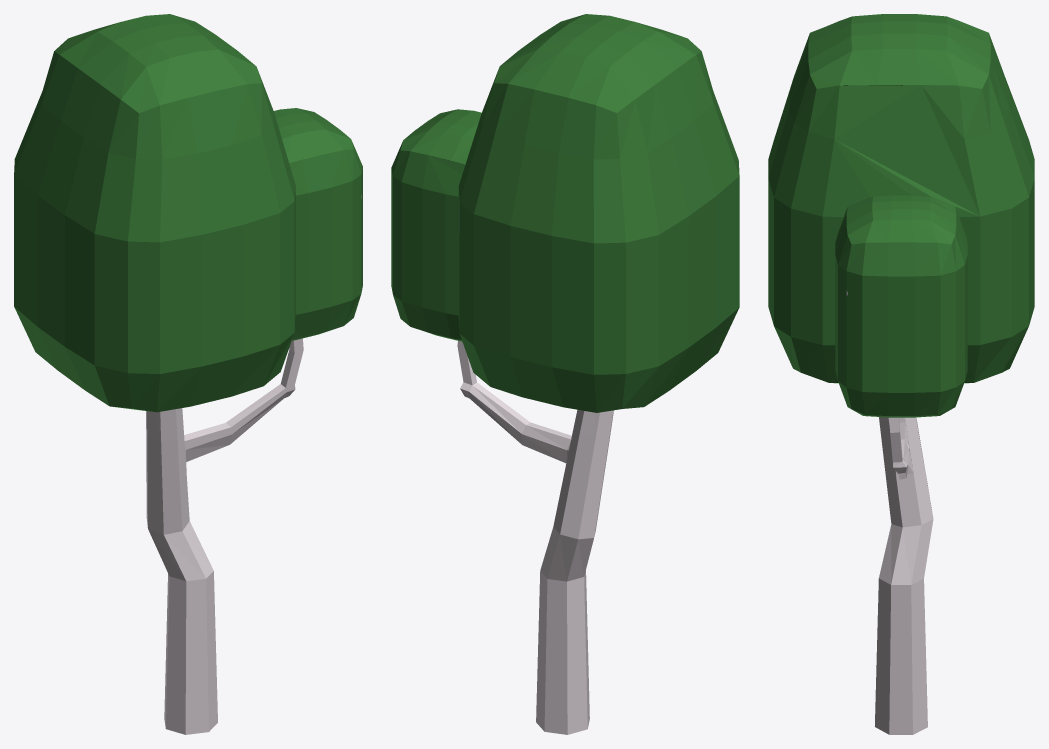
Rendered from Tree2.glb.
3 renders of one model, left to right at view 1: azimuth 30°, elevation 25°; view 2: azimuth 150°, elevation 25°; view 3: azimuth 270°, elevation 25°, orthographic. The views are drawn at different scales.
Visible parts, largest first — view 1: Rounded_Box_Copy; view 2: Rounded_Box_Copy; view 3: Rounded_Box_Copy.
Part boxes in pixels (x1,y1,x2,y2): Rounded_Box_Copy: (14,14,362,734); Rounded_Box_Copy: (391,14,739,734); Rounded_Box_Copy: (768,14,1034,734).
Bounding box in the file's own units: 1.21 × 2.76 × 0.9758.
Materials: 1 (1 with a texture image).
